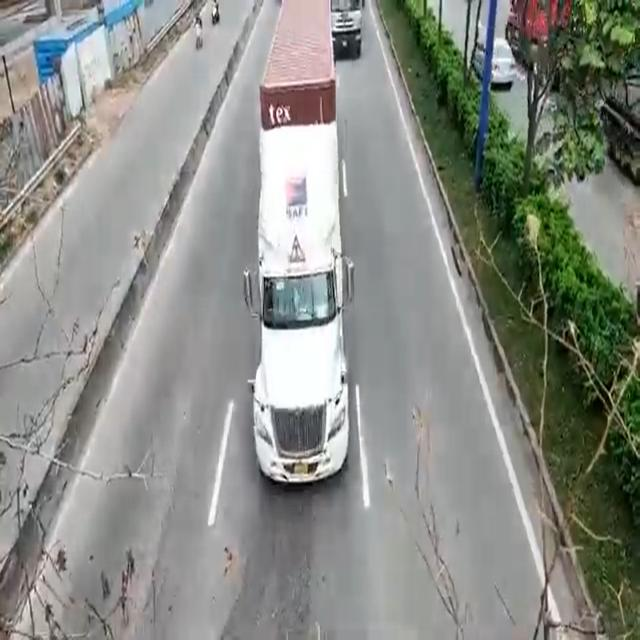motor: (194, 21, 203, 58)
truck: (259, 5, 350, 473)
